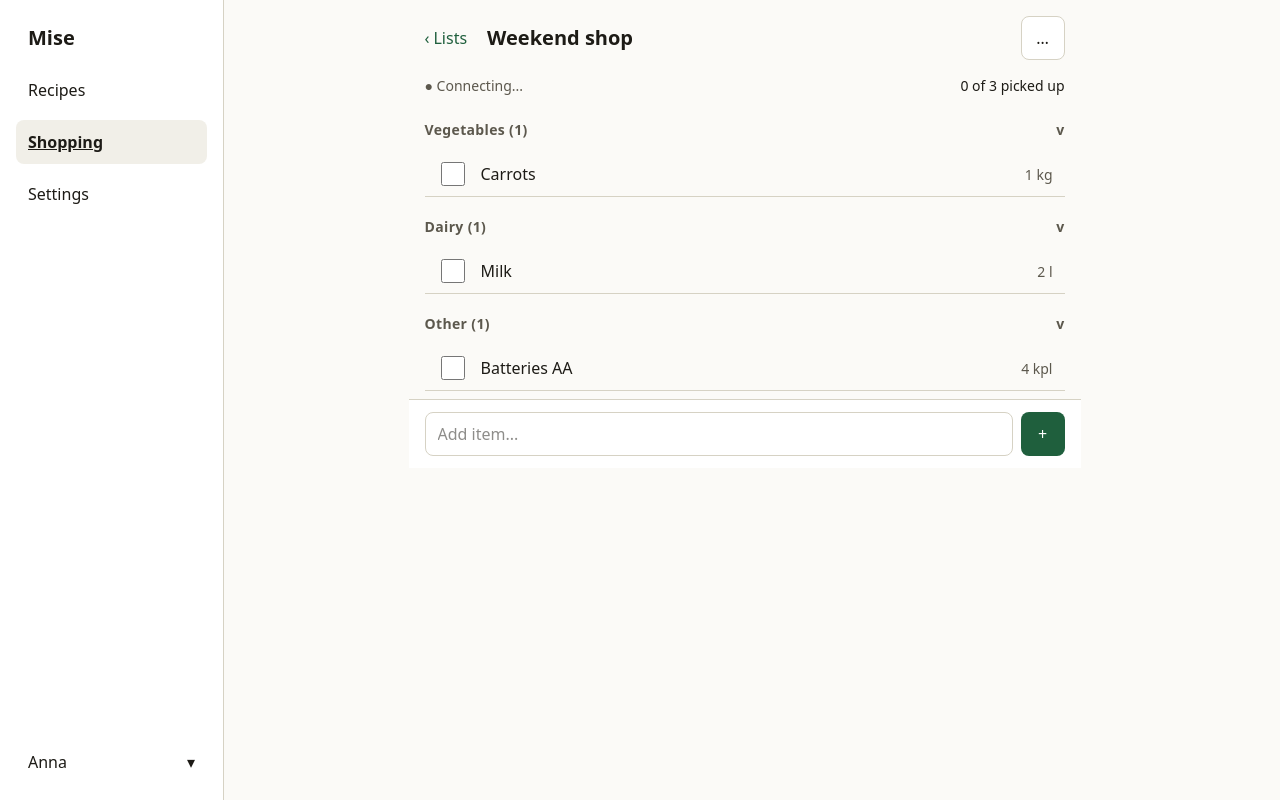
Test: list view (FR-36, FR-37, AC-08) › FR-37: a failed checkoff reverts, shows Not saved. Retry, and Retry resends the desired state
Expected: the text "Milk" is shown, [480,259,512,283]
Click the 2nd checkbox with test id "item-checkbox" at x=452, y=271, box [440,259,464,283]
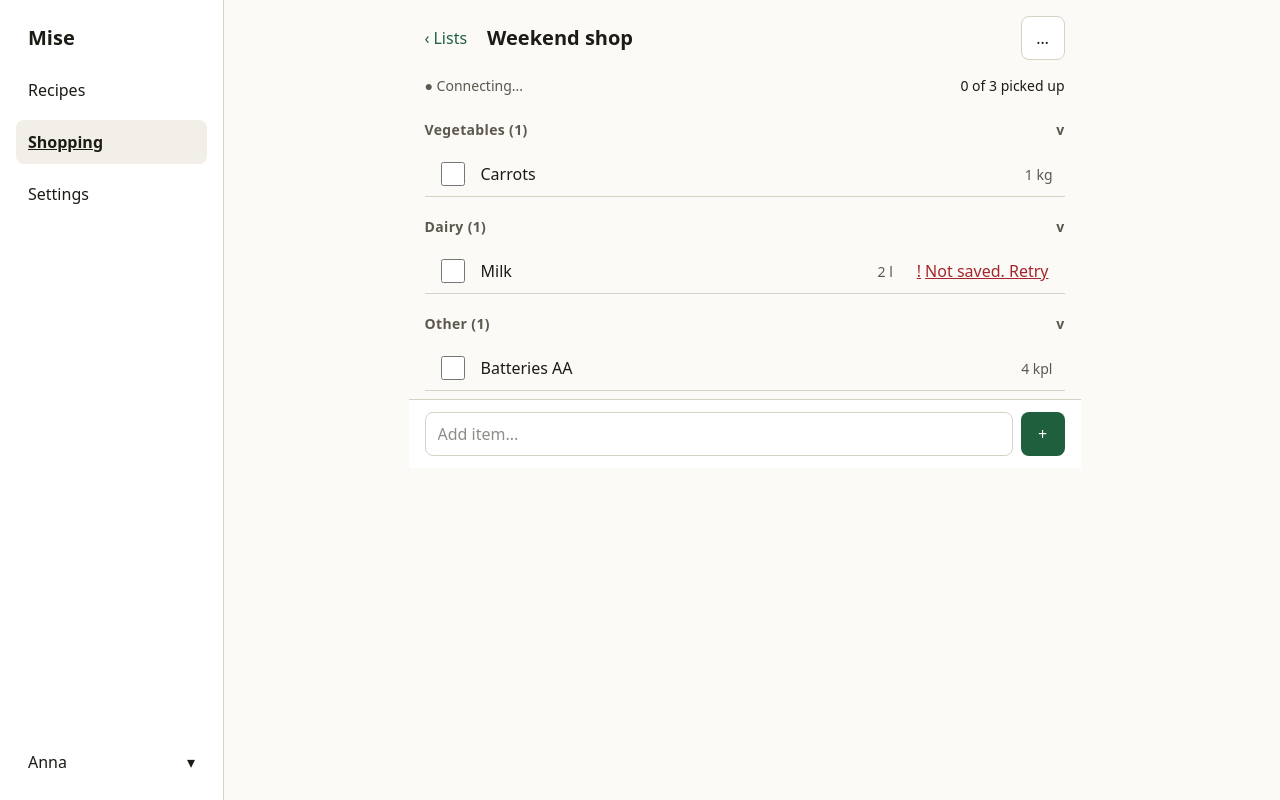
Expected: the text with test id "list-progress" reads "0 of 3 picked up", [960,76,1064,95]
Click the button with aria-label "Not saved. Retry: Milk" at x=983, y=271, box [905,249,1060,293]
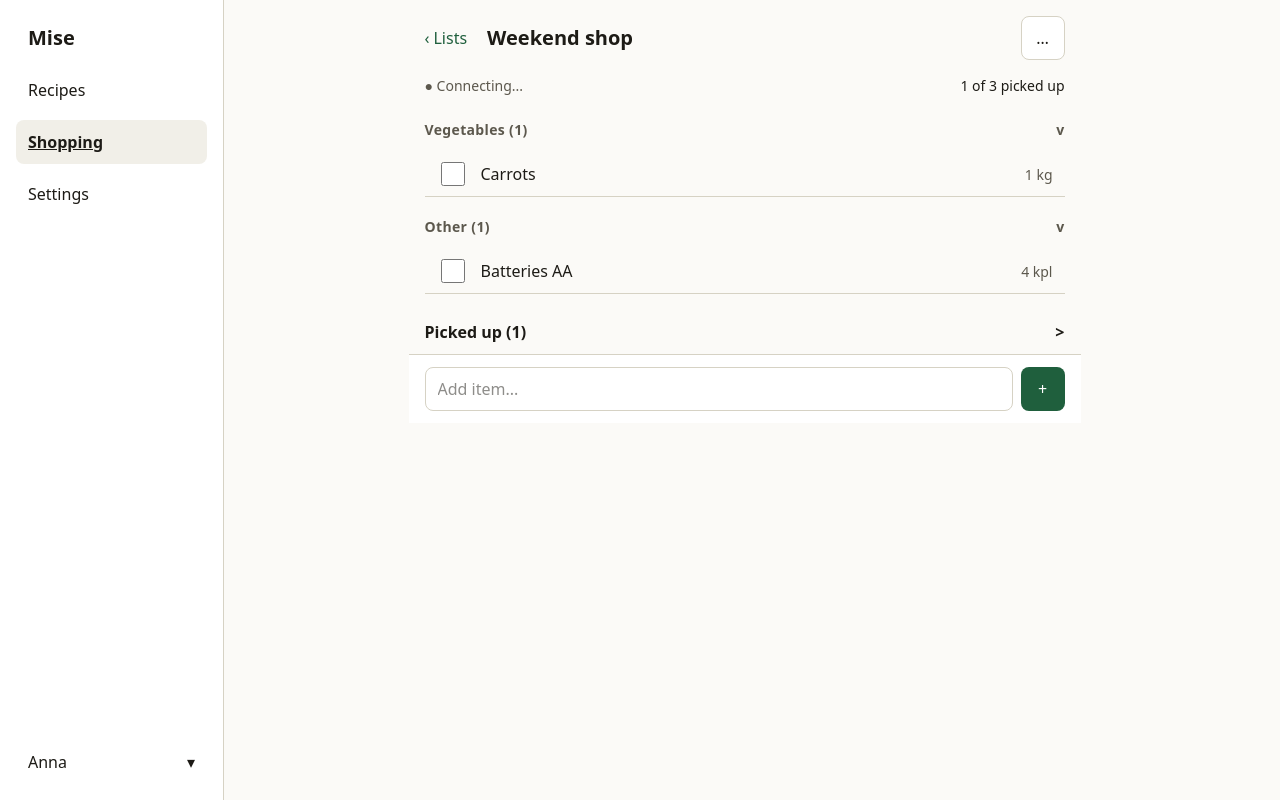
Now the button "Not saved" is gone
Now the text with test id "list-progress" reads "1 of 3 picked up", box [960,76,1064,95]
